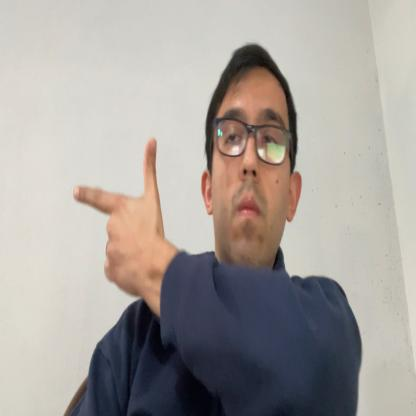G: (72, 137, 162, 301)
